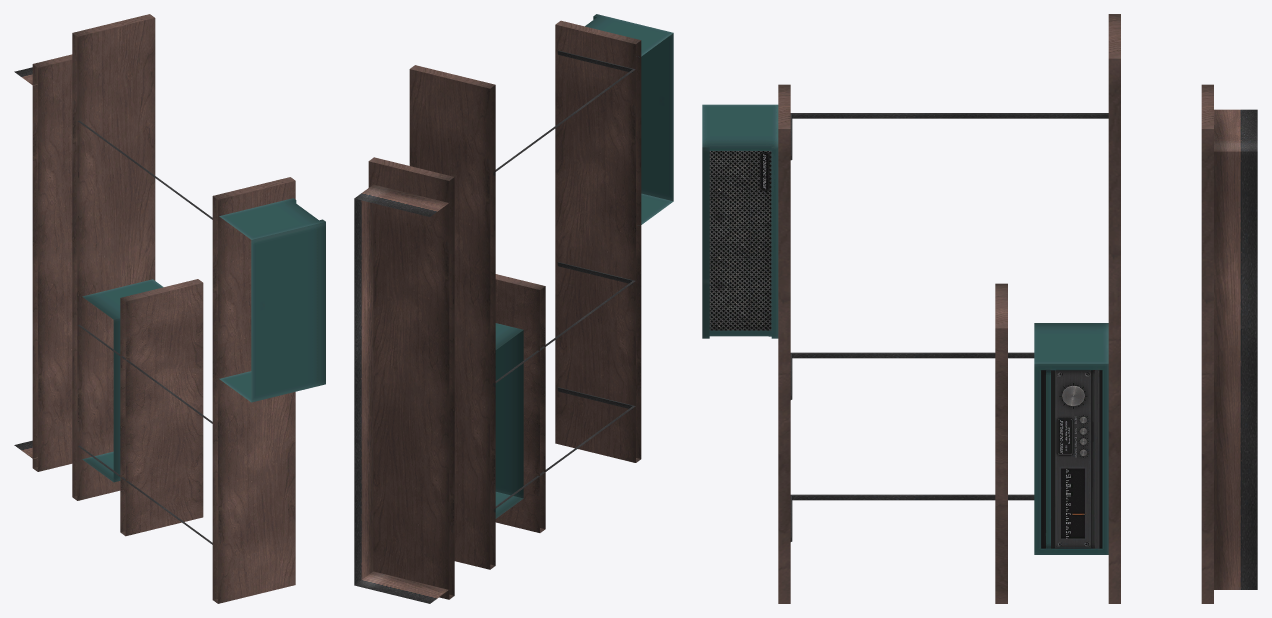
The model's file is nt_2020_hifi_shelf_LOD2.obj.
The picture shows the model from 3 angles, left to right: view 1: azimuth 30°, elevation 25°; view 2: azimuth 150°, elevation 25°; view 3: azimuth 270°, elevation 25°; orthographic projection. The views are drawn at different scales.
Parts seen in each view (by area): view 1: mtl_nt_2020_hifi_shelf; view 2: mtl_nt_2020_hifi_shelf; view 3: mtl_nt_2020_hifi_shelf.
Boxes of the visible parts, bbox=[...] form: mtl_nt_2020_hifi_shelf: bbox=[14, 14, 325, 603]; mtl_nt_2020_hifi_shelf: bbox=[354, 14, 673, 603]; mtl_nt_2020_hifi_shelf: bbox=[702, 14, 1257, 603].
Bounding box in the file's own units: 43.18 × 246 × 227.
